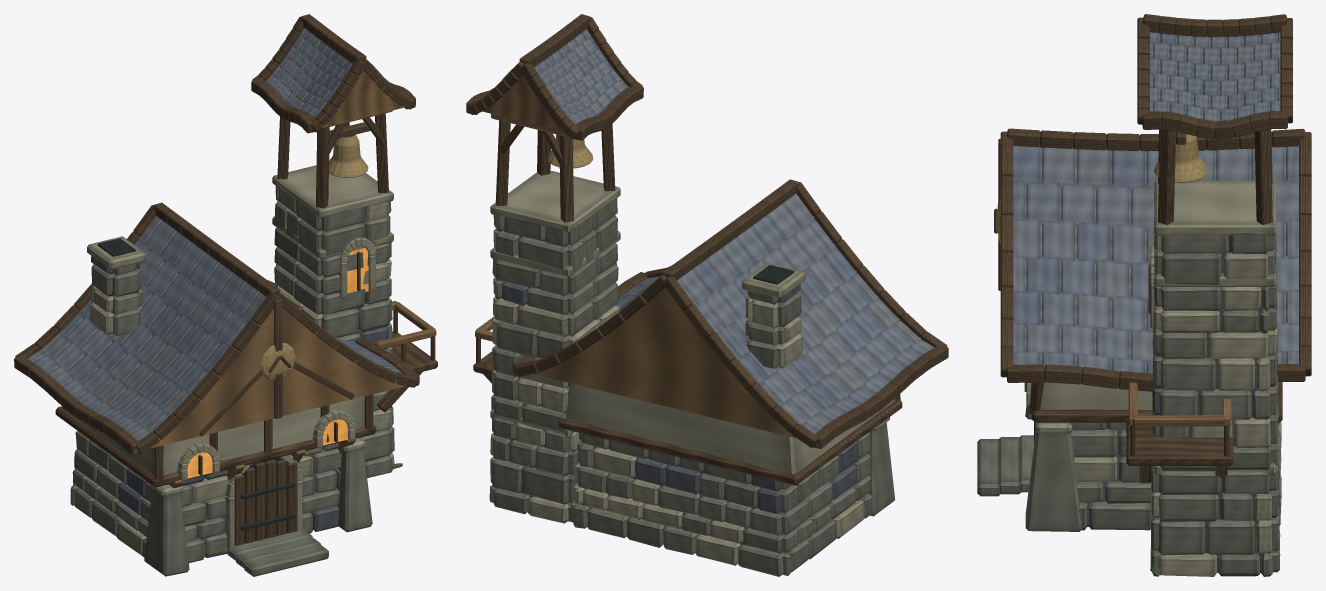
The model's file is Reboot_Hero.glb.
3 renders of one model, left to right at view 1: azimuth 30°, elevation 25°; view 2: azimuth 150°, elevation 25°; view 3: azimuth 270°, elevation 25°, orthographic. The views are drawn at different scales.
Visible parts, largest first — view 1: Hero_Casa_Campana; view 2: Hero_Casa_Campana; view 3: Hero_Casa_Campana.
Part boxes in pixels (left/top/right/bottom): Hero_Casa_Campana: left=14, top=14, right=437, bottom=576; Hero_Casa_Campana: left=466, top=14, right=948, bottom=576; Hero_Casa_Campana: left=977, top=14, right=1311, bottom=576.
Bounding box in the file's own units: 8.45 × 9.81 × 5.49.
Materials: 2 (2 with a texture image).
